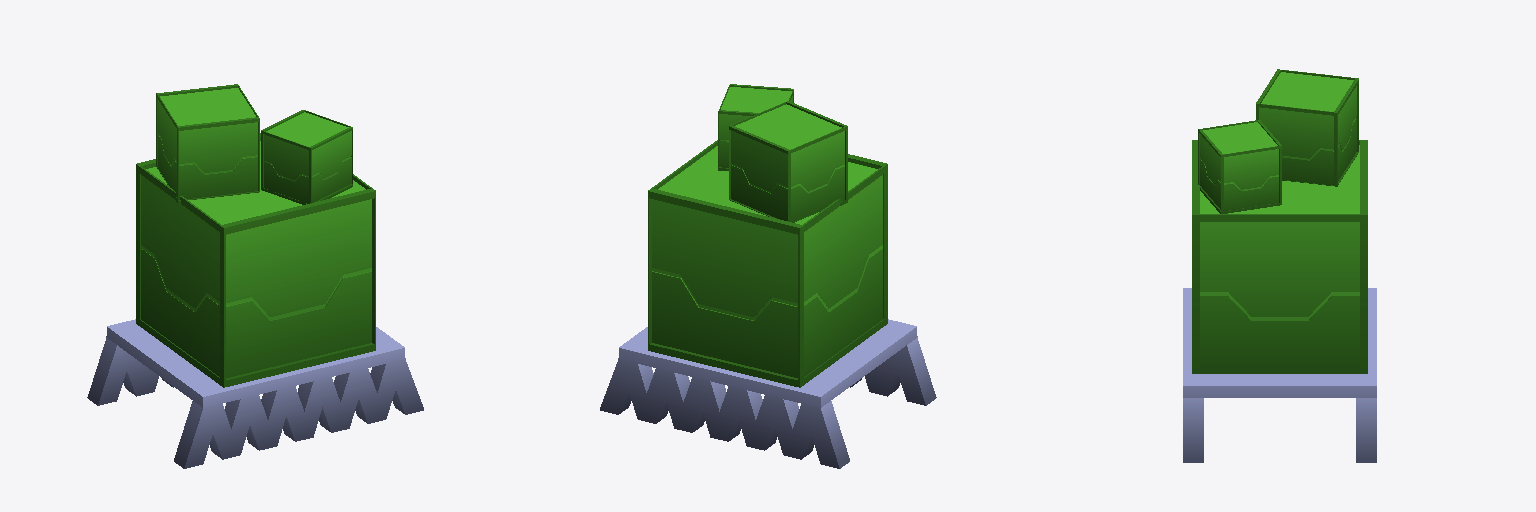
3 renders of one model, left to right at view 1: azimuth 30°, elevation 25°; view 2: azimuth 150°, elevation 25°; view 3: azimuth 270°, elevation 25°, orthographic.
Visible parts, largest first — view 1: Crate.005, Stand, Crate.001, Crate.003; view 2: Crate.005, Stand, Crate.001, Crate.003; view 3: Crate.005, Crate.001, Stand, Crate.003.
Boxes of the visible parts, box(x1,y1,x2,y2) form: Crate.005: box(136, 133, 375, 387); Stand: box(87, 319, 423, 468); Crate.001: box(156, 84, 259, 203); Crate.003: box(261, 110, 352, 204); Crate.005: box(648, 140, 887, 387); Stand: box(600, 319, 936, 468); Crate.001: box(729, 101, 847, 222); Crate.003: box(718, 84, 793, 170); Crate.005: box(1192, 140, 1367, 373); Crate.001: box(1256, 69, 1358, 186); Stand: box(1183, 288, 1376, 462); Crate.003: box(1198, 120, 1281, 213).
Bounding box in the file's own units: 5.39 × 6.35 × 3.76.
2 materials, 1 textured.